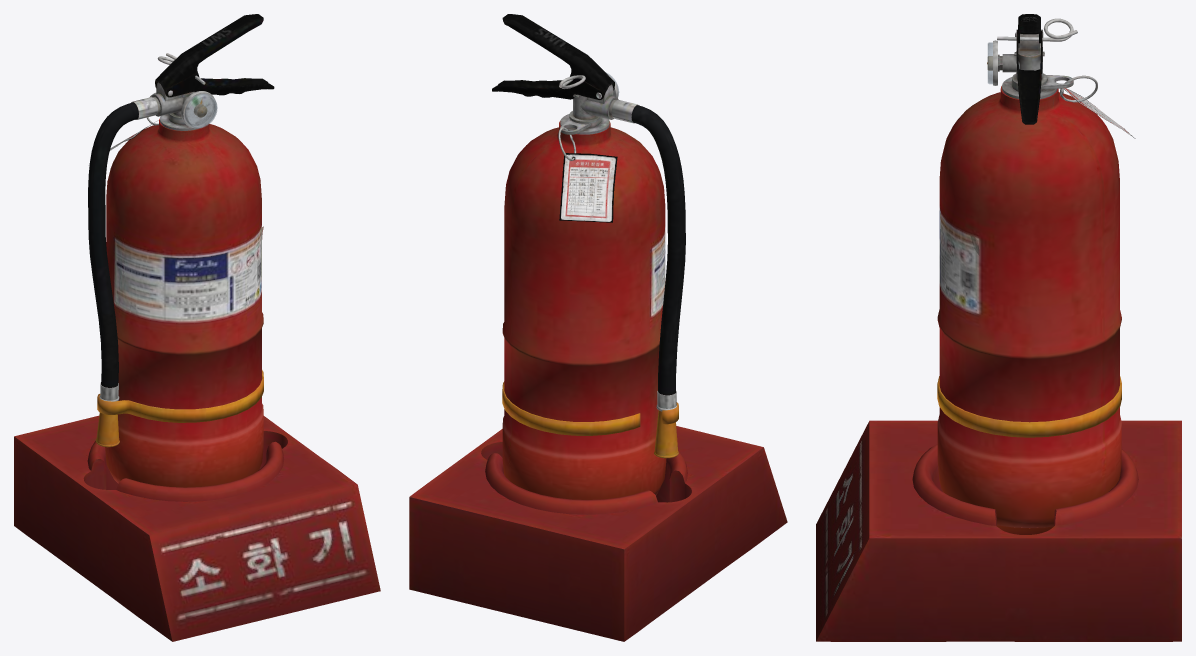
File: fire_extinguisher.glb
3 views of the same model, side by side, from view 1: azimuth 30°, elevation 25°; view 2: azimuth 150°, elevation 25°; view 3: azimuth 270°, elevation 25° (orthographic). The views are drawn at different scales.
Visible parts, largest first — view 1: korean_fire_extinguisher_01; view 2: korean_fire_extinguisher_01; view 3: korean_fire_extinguisher_01.
Part boxes in pixels (bbox=[...]): korean_fire_extinguisher_01: bbox=[14, 14, 380, 641]; korean_fire_extinguisher_01: bbox=[409, 14, 787, 641]; korean_fire_extinguisher_01: bbox=[816, 14, 1181, 641].
Bounding box in the file's own units: 0.28 × 0.6593 × 0.3674.
3 materials, 3 textured.
